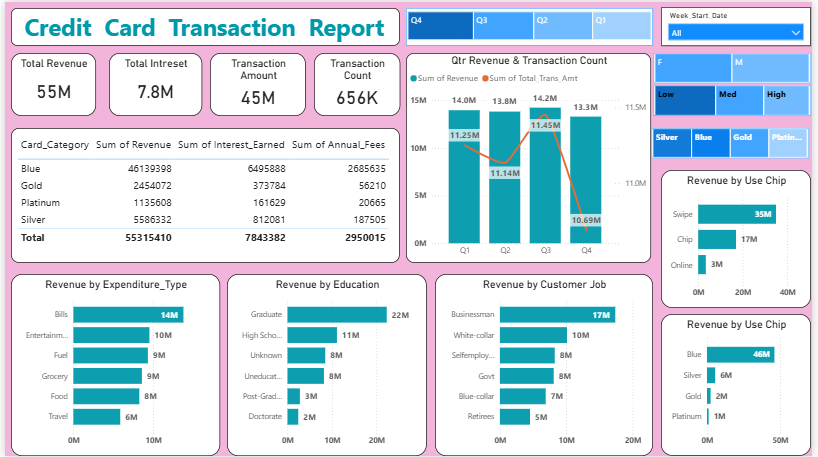

The page's visual inventory and layout, read from the dashboard file:
{"tool":"powerbi","page":{"name":"CC Transaction","canvas":[1280,720],"ordinal":1},"visuals":[{"type":"textbox","box":[9.5,9.5,617.5,60.3],"z":0},{"type":"lineStackedColumnComboChart","title":"Qtr Revenue & Transaction Count","fields":{"Category":["cc_detail.Qtr"],"Y":["Sum(cc_detail.Revenue)"],"Y2":["Sum(cc_detail.Total_Trans_Amt)"]},"box":[636.5,81,388.9,333.3],"z":1000},{"type":"clusteredBarChart","title":"Revenue by Expenditure_Type","fields":{"Y":["Sum(cc_detail.Revenue)"],"Category":["cc_detail.Exp_Type"]},"box":[9.5,431.7,331.7,288.9],"z":2000},{"type":"clusteredBarChart","title":"Revenue by Education","fields":{"Y":["Sum(cc_detail.Revenue)"],"Category":["cust_detail.Education_Level"]},"box":[352.4,431.7,317.5,288.9],"z":3000},{"type":"clusteredBarChart","title":"Revenue by Customer Job","fields":{"Y":["Sum(cc_detail.Revenue)"],"Category":["cust_detail.Customer_Job"]},"box":[682.5,431.7,346,288.9],"z":4000},{"type":"clusteredBarChart","title":"Revenue by Use Chip","fields":{"Y":["Sum(cc_detail.Revenue)"],"Category":["cc_detail.Use_Chip"]},"box":[1041.3,266.7,238.1,219],"z":5000},{"type":"clusteredBarChart","title":"Revenue by Use Chip","fields":{"Y":["Sum(cc_detail.Revenue)"],"Category":["cc_detail.Card_Category"]},"box":[1041.3,494.6,238.1,225.4],"z":6000},{"type":"tableEx","fields":{"Values":["cc_detail.Card_Category","Sum(cc_detail.Revenue)","Sum(cc_detail.Interest_Earned)","Sum(cc_detail.Annual_Fees)"]},"box":[9.5,200,617.5,214.3],"z":7000},{"type":"card","title":"Total Revenue","fields":{"Values":["Sum(cc_detail.Revenue)"]},"box":[9.5,81,134.9,100],"z":8000},{"type":"card","title":"Total Intreset","fields":{"Values":["Sum(cc_detail.Interest_Earned)"]},"box":[165.1,81,147.6,100],"z":9000},{"type":"card","title":"Transaction Count","fields":{"Values":["Sum(cc_detail.Total_Trans_Ct)"]},"box":[490.5,81,136.5,100],"z":10000},{"type":"card","title":"Transaction Amount","fields":{"Values":["Sum(cc_detail.Total_Trans_Amt)"]},"box":[325.4,81,152.4,100],"z":11000},{"type":"treemap","fields":{"Group":["cc_detail.Qtr"],"Values":["Avg(cc_detail.Client_Num)"]},"box":[636.5,9.5,392.1,60.3],"z":12000},{"type":"treemap","fields":{"Values":["Avg(cc_detail.Client_Num)"],"Group":["cust_detail.Gender"]},"box":[1028.6,81,250.8,47.6],"z":13000},{"type":"treemap","fields":{"Values":["Sum(cc_detail.Client_Num)"],"Group":["cust_detail.IncomeGroup"]},"box":[1028.6,131.7,250.8,49.2],"z":14000},{"type":"treemap","fields":{"Values":["Avg(cc_detail.Client_Num)"],"Group":["cc_detail.Card_Category"]},"box":[1025.4,200,250.8,47.6],"z":15000},{"type":"slicer","fields":{"Values":["cc_detail.Week_Start_Date"]},"box":[1041.9,7.9,238.1,61.9],"z":16000}]}

Visuals, with their boxes in screenshot pixels (x1, y1, x2, y2), scaled from the page's 1280x720 canvas onto the 818x457 screenshot:
textbox: x1=6 y1=6 x2=401 y2=44
"Qtr Revenue & Transaction Count" lineStackedColumnComboChart: x1=407 y1=51 x2=655 y2=263
"Revenue by Expenditure_Type" clusteredBarChart: x1=6 y1=274 x2=218 y2=456
"Revenue by Education" clusteredBarChart: x1=225 y1=274 x2=428 y2=456
"Revenue by Customer Job" clusteredBarChart: x1=436 y1=274 x2=657 y2=456
"Revenue by Use Chip" clusteredBarChart: x1=665 y1=169 x2=817 y2=308
"Revenue by Use Chip" clusteredBarChart: x1=665 y1=314 x2=817 y2=456
tableEx - cc_detail.Card_Category x Sum(cc_detail.Revenue): x1=6 y1=127 x2=401 y2=263
"Total Revenue" card: x1=6 y1=51 x2=92 y2=115
"Total Intreset" card: x1=106 y1=51 x2=200 y2=115
"Transaction Count" card: x1=313 y1=51 x2=401 y2=115
"Transaction Amount" card: x1=208 y1=51 x2=305 y2=115
treemap - cc_detail.Qtr x Avg(cc_detail.Client_Num): x1=407 y1=6 x2=657 y2=44
treemap - Avg(cc_detail.Client_Num) x cust_detail.Gender: x1=657 y1=51 x2=817 y2=82
treemap - Sum(cc_detail.Client_Num) x cust_detail.IncomeGroup: x1=657 y1=84 x2=817 y2=115
treemap - Avg(cc_detail.Client_Num) x cc_detail.Card_Category: x1=655 y1=127 x2=816 y2=157
slicer - cc_detail.Week_Start_Date: x1=666 y1=5 x2=817 y2=44
